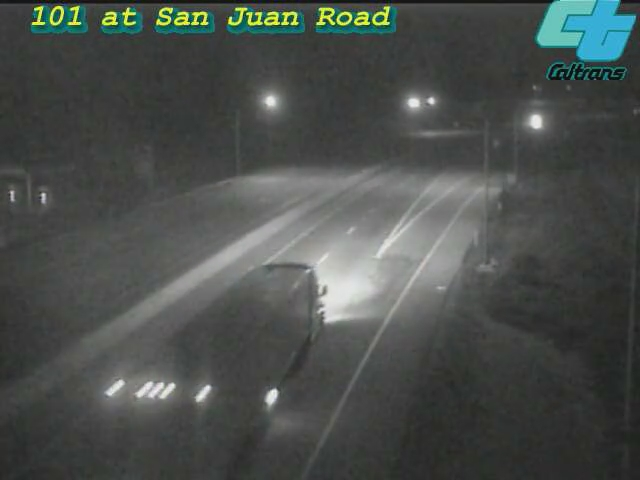vehicle: (200, 280, 310, 390), (513, 97, 563, 147)
